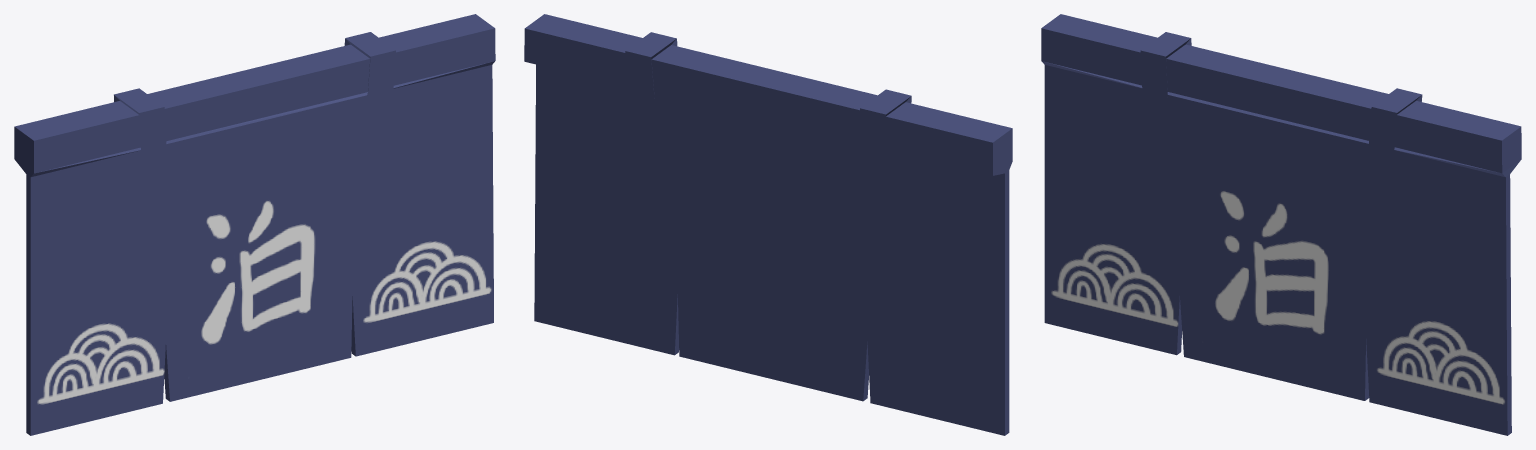
Rendered from Noren_Blue_Hostel.gltf.
3 renders of one model, left to right at view 1: azimuth 30°, elevation 25°; view 2: azimuth 150°, elevation 25°; view 3: azimuth 330°, elevation 25°, orthographic.
Visible parts, largest first — view 1: Noren_Blue_Hostel; view 2: Noren_Blue_Hostel; view 3: Noren_Blue_Hostel.
Boxes of the visible parts, x1=… form: Noren_Blue_Hostel: x1=14, y1=14, x2=495, y2=435; Noren_Blue_Hostel: x1=524, y1=14, x2=1012, y2=435; Noren_Blue_Hostel: x1=1041, y1=14, x2=1521, y2=435.
Bounding box in the file's own units: 1 × 0.6267 × 0.0953.
Materials: 1 (1 with a texture image).
